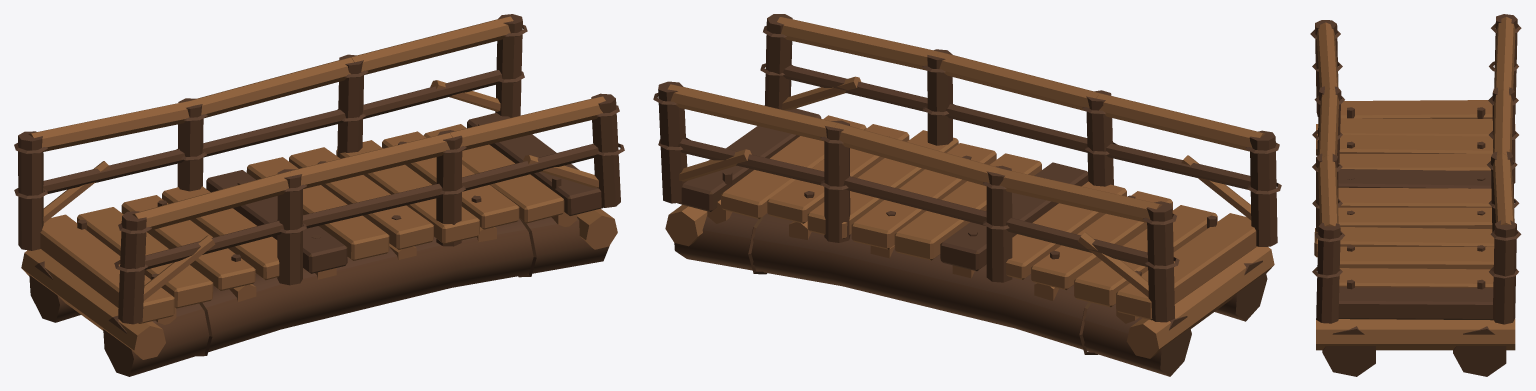
Rendered from bridge_log_plank_a.glb.
3 views of the same model, side by side, from view 1: azimuth 30°, elevation 25°; view 2: azimuth 150°, elevation 25°; view 3: azimuth 270°, elevation 25° (orthographic). The views are drawn at different scales.
Visible parts, largest first — view 1: bridge_log_plank_a_material_01, bridge_log_plank_a_material_00; view 2: bridge_log_plank_a_material_01, bridge_log_plank_a_material_00; view 3: bridge_log_plank_a_material_00, bridge_log_plank_a_material_01.
Part boxes in pixels (x1=…): bridge_log_plank_a_material_01: x1=14, y1=14, x2=624, y2=376; bridge_log_plank_a_material_00: x1=21, y1=16, x2=617, y2=359; bridge_log_plank_a_material_01: x1=653, y1=14, x2=1281, y2=376; bridge_log_plank_a_material_00: x1=665, y1=17, x2=1274, y2=358; bridge_log_plank_a_material_00: x1=1314, y1=16, x2=1515, y2=350; bridge_log_plank_a_material_01: x1=1310, y1=14, x2=1521, y2=376.
Size of the model in its own units: 4.07 by 1.35 by 1.65.
